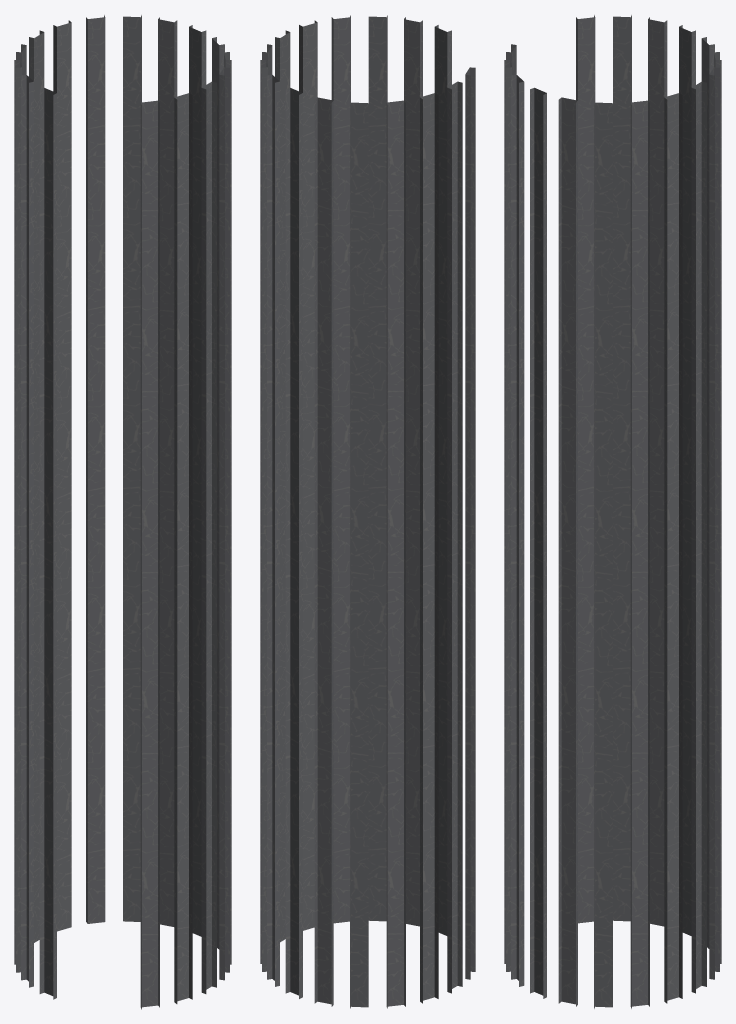
The model's file is field_winter_tower_beam.fbx.
3 views of the same model, side by side, from view 1: azimuth 30°, elevation 25°; view 2: azimuth 150°, elevation 25°; view 3: azimuth 270°, elevation 25° (orthographic).
Parts seen in each view (by area): view 1: field_winter_tower_beam; view 2: field_winter_tower_beam; view 3: field_winter_tower_beam.
Boxes of the visible parts, <box> form: field_winter_tower_beam: <box>14,15,231,1009</box>; field_winter_tower_beam: <box>260,15,475,1008</box>; field_winter_tower_beam: <box>504,15,721,1008</box>.
Size of the model in its own units: 348 by 1601 by 348.
1 material, 1 textured.
